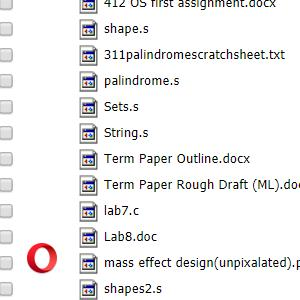opera: (27, 243, 57, 274)
